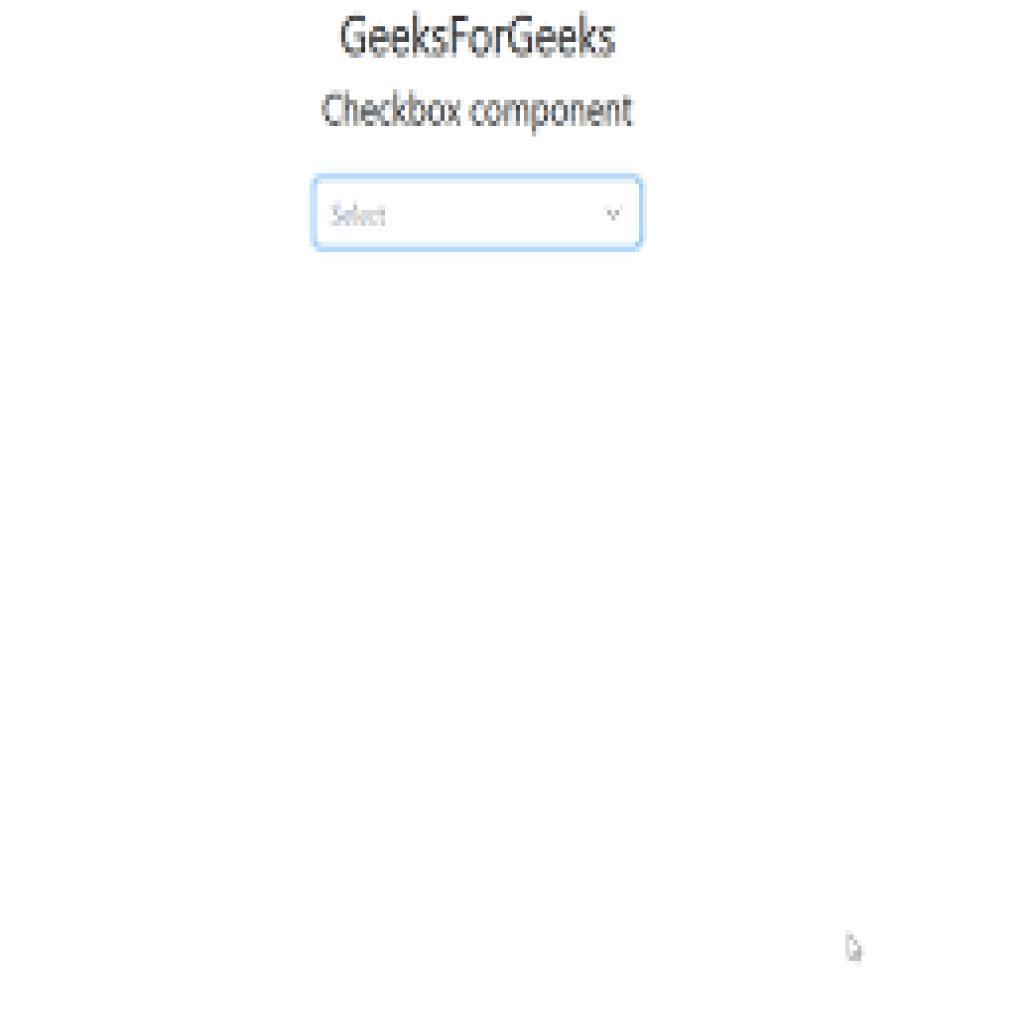dropdown: (311, 174, 645, 253)
